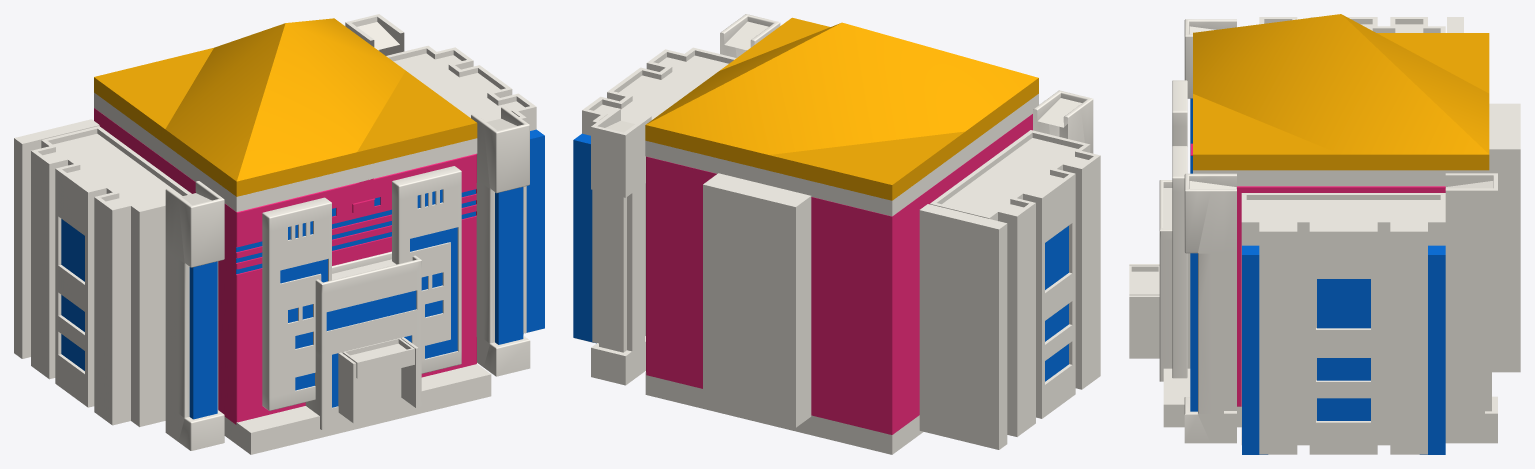
File: 컨퍼런스홀.fbx
3 renders of one model, left to right at view 1: azimuth 30°, elevation 25°; view 2: azimuth 150°, elevation 25°; view 3: azimuth 270°, elevation 25°, orthographic. The views are drawn at different scales.
Visible parts, largest first — view 1: 지붕_1, 오른쪽_1, 몸통, 앞판, 앞판2_1, 왼쪽1_3, 왼쪽1_1, 앞판2, 바닥판, 오른쪽, 지붕, 왼쪽2 (+12 smaller); view 2: 지붕_1, 몸통, 오른쪽_1, 맨뒷판, 왼쪽2, 왼쪽1_2, 오른쪽, 지붕, 바닥판, Cube_114, 왼쪽1_3, Cube_38 (+1 smaller); view 3: 지붕_1, 오른쪽, 왼쪽1_2, 왼쪽1_1, 맨뒷판, Cube_39, 지붕, Cube_114, Cube_40, 앞판2, 앞판, 몸통 (+7 smaller).
Part boxes in pixels (x1=…): 지붕_1: x1=94, y1=18, x2=477, y2=196; 오른쪽_1: x1=31, y1=126, x2=191, y2=426; 몸통: x1=94, y1=108, x2=476, y2=424; 앞판: x1=305, y1=251, x2=421, y2=429; 앞판2_1: x1=262, y1=197, x2=331, y2=410; 왼쪽1_3: x1=165, y1=181, x2=224, y2=450; 왼쪽1_1: x1=471, y1=106, x2=530, y2=376; 앞판2: x1=392, y1=166, x2=461, y2=373; 바닥판: x1=224, y1=364, x2=491, y2=454; 오른쪽: x1=386, y1=45, x2=536, y2=333; 지붕: x1=94, y1=92, x2=477, y2=211; 왼쪽2: x1=14, y1=119, x2=99, y2=358; 지붕_1: x1=645, y1=17, x2=1038, y2=200; 몸통: x1=646, y1=114, x2=1032, y2=434; 오른쪽_1: x1=930, y1=130, x2=1100, y2=436; 맨뒷판: x1=703, y1=173, x2=811, y2=427; 왼쪽2: x1=919, y1=204, x2=1007, y2=449; 왼쪽1_2: x1=591, y1=108, x2=651, y2=385; 오른쪽: x1=582, y1=47, x2=736, y2=342; 지붕: x1=645, y1=94, x2=1038, y2=216; 바닥판: x1=645, y1=372, x2=923, y2=454; Cube_114: x1=573, y1=133, x2=596, y2=343; 왼쪽1_3: x1=1033, y1=90, x2=1093, y2=153; Cube_38: x1=1045, y1=225, x2=1068, y2=381; 지붕_1: x1=1193, y1=14, x2=1489, y2=170; 오른쪽: x1=1241, y1=193, x2=1445, y2=454; 왼쪽1_2: x1=1445, y1=173, x2=1497, y2=443; 왼쪽1_1: x1=1184, y1=173, x2=1236, y2=443; 맨뒷판: x1=1489, y1=103, x2=1520, y2=372; Cube_39: x1=1317, y1=279, x2=1370, y2=420; 지붕: x1=1193, y1=170, x2=1489, y2=186; Cube_114: x1=1420, y1=245, x2=1445, y2=454; Cube_40: x1=1242, y1=245, x2=1267, y2=454; 앞판2: x1=1172, y1=146, x2=1187, y2=378; 앞판: x1=1159, y1=180, x2=1190, y2=381; 몸통: x1=1190, y1=143, x2=1445, y2=406.
Bounding box in the file's own units: 621 × 475 × 478.
